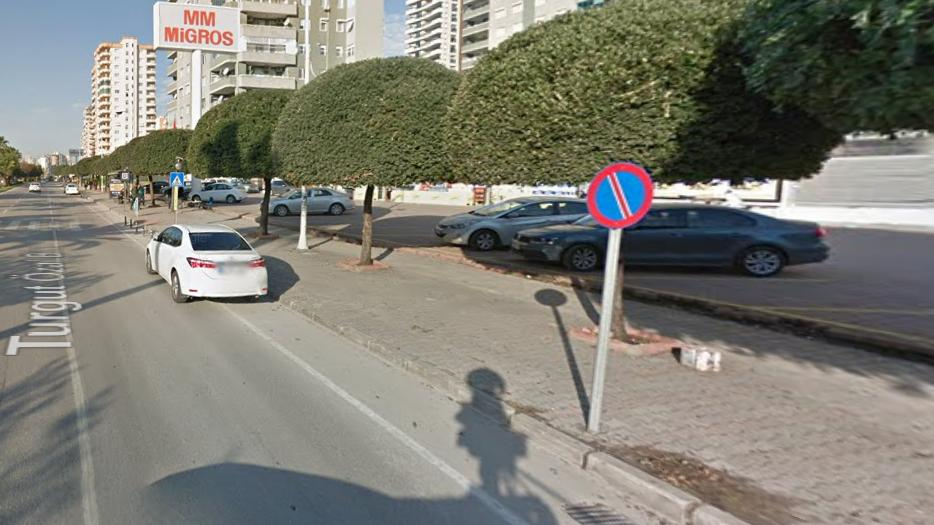stop: (588, 162, 650, 229)
